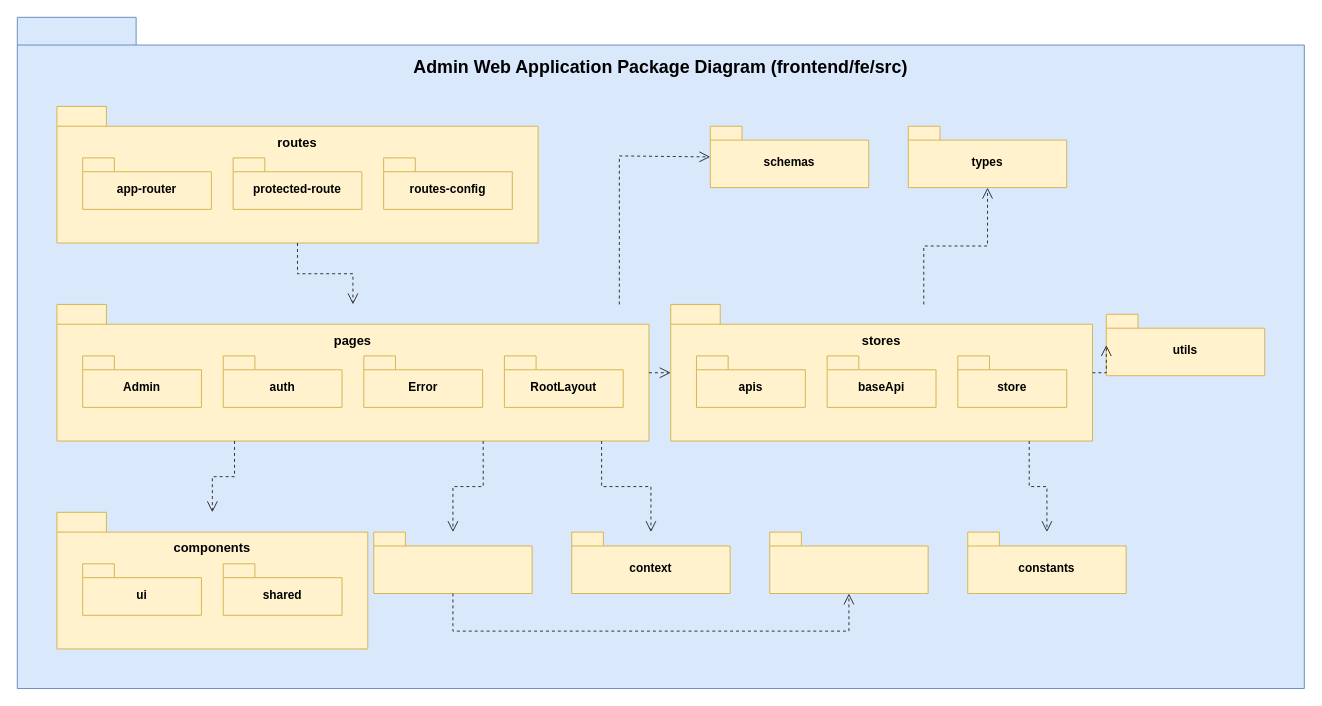
This 1322x706 diagram has some shape labels left out. The shapes that lost their labels are listed below. From the top down, each one's centre as x and y in pixels, then its label:
the point at 452,562: hooks
the point at 848,562: lib
